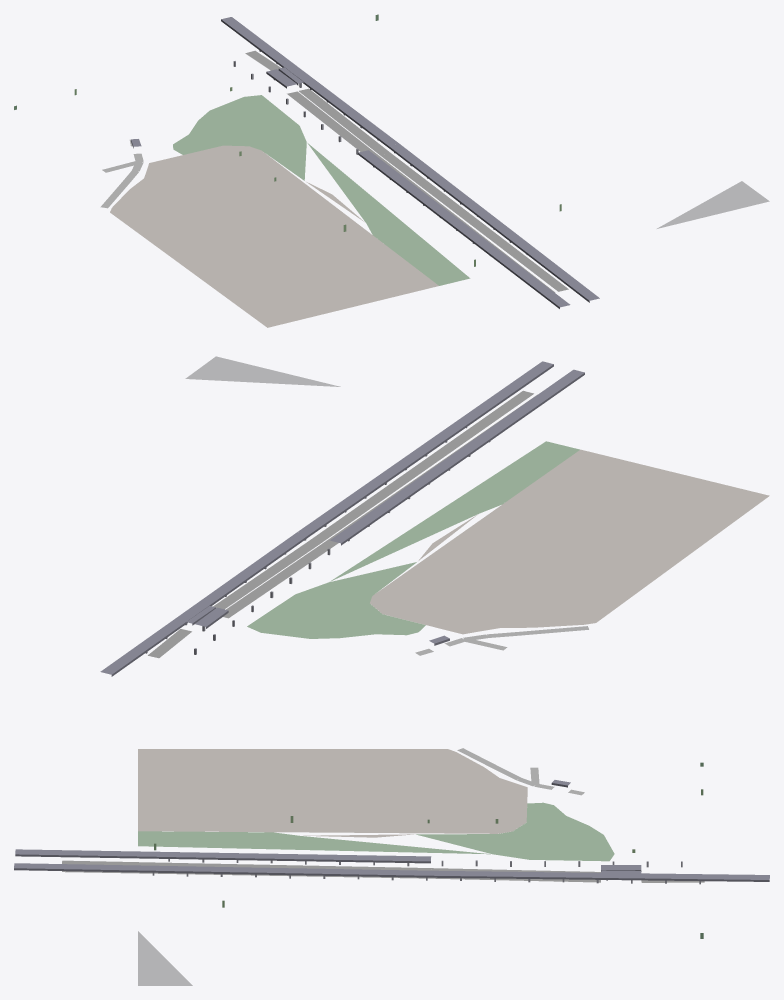
3 views of the same model, one above another, from view 1: azimuth 30°, elevation 25°; view 2: azimuth 150°, elevation 25°; view 3: azimuth 270°, elevation 25° (orthographic). The views are drawn at different scales.
Bounding box in the file's own units: 502 × 10.75 × 663.
